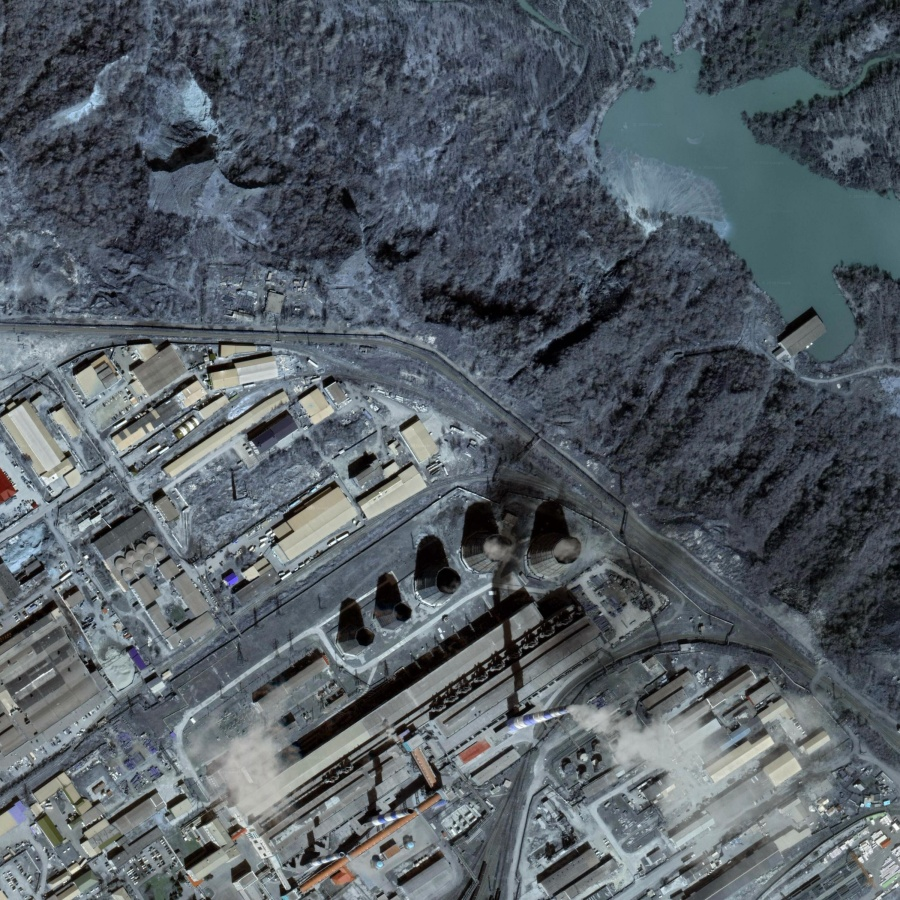PowerPlant: (238, 478, 685, 848)
